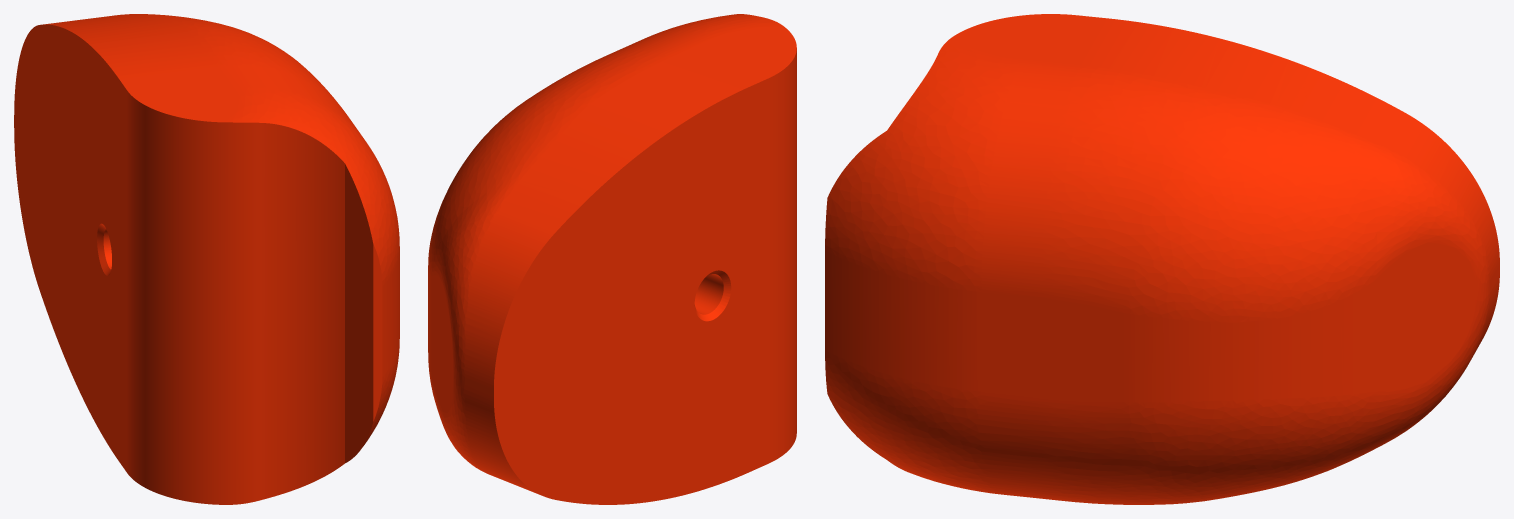
Rendered from L_Hand_Ring_Distal_visuals_ALLEX_Hand_Distal_Pad.obj.
3 renders of one model, left to right at view 1: azimuth 30°, elevation 25°; view 2: azimuth 150°, elevation 25°; view 3: azimuth 270°, elevation 25°, orthographic. The views are drawn at different scales.
Size of the model in its own units: 0.0111 by 0.016 by 0.0233.
